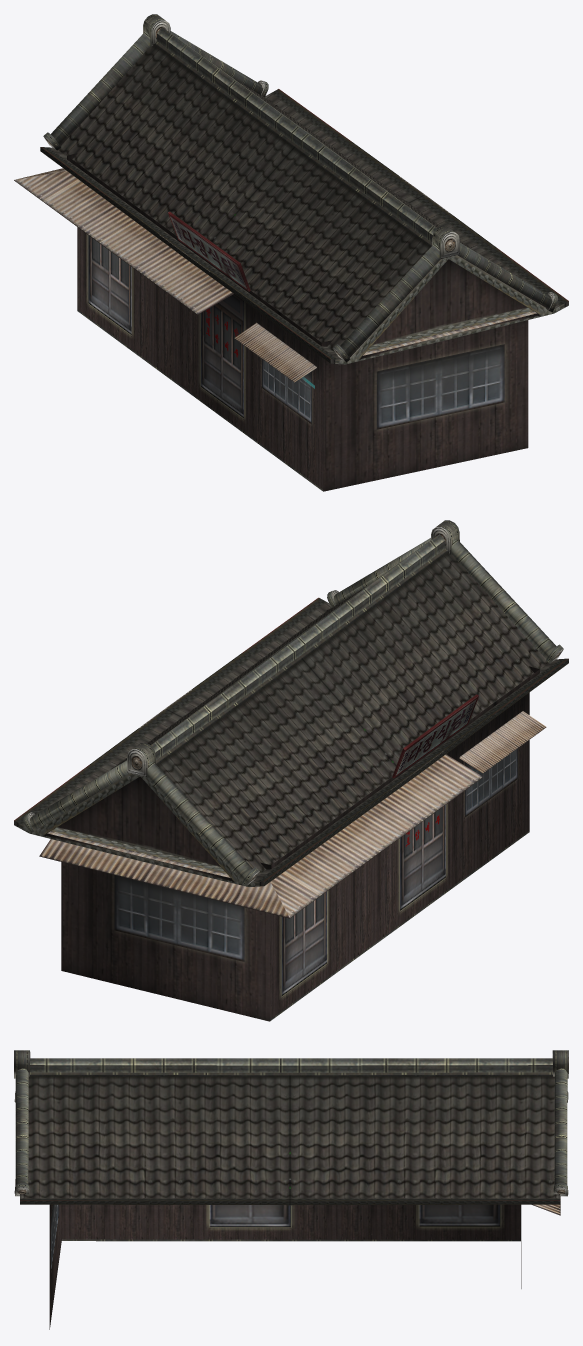
Rendered from dajung_sickdang.FBX.
3 renders of one model, top to bottom at view 1: azimuth 30°, elevation 25°; view 2: azimuth 150°, elevation 25°; view 3: azimuth 270°, elevation 25°, orthographic. The views are drawn at different scales.
Visible parts, largest first — view 1: polySurface28, him00obj, Box008, Box0010, Box009; view 2: polySurface28, him00obj, Box008, Box0010, Box009; view 3: polySurface28, him00obj.
Boxes of the visible parts, <box> form: polySurface28: <box>40,14,568,364</box>; him00obj: <box>67,105,528,491</box>; Box008: <box>14,168,233,314</box>; Box0010: <box>234,322,316,382</box>; Box009: <box>168,211,250,291</box>; polySurface28: <box>14,520,568,886</box>; him00obj: <box>61,610,539,1021</box>; Box008: <box>39,754,482,918</box>; Box0010: <box>459,711,546,773</box>; Box009: <box>392,694,478,778</box>; polySurface28: <box>14,1050,568,1205</box>; him00obj: <box>49,1204,521,1329</box>.
Size of the model in its own units: 29.74 by 27.14 by 57.88.
2 materials, 2 textured.
